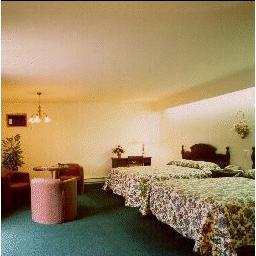Cama: (140, 168, 254, 245), (104, 147, 231, 198)
